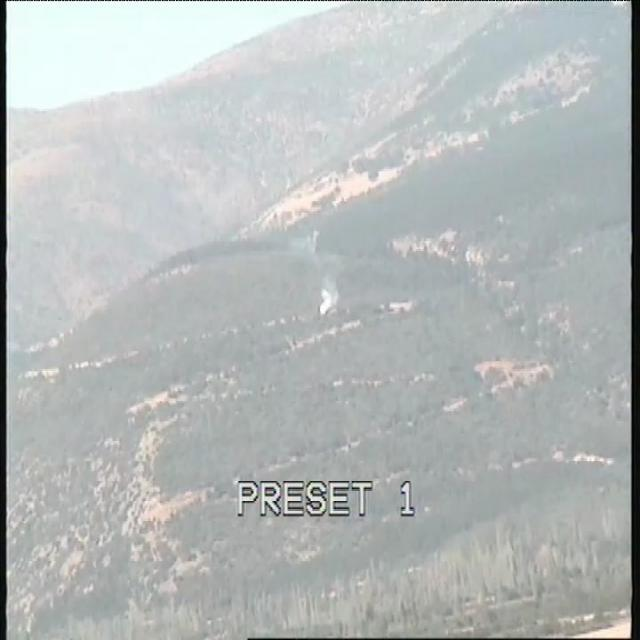smoke: (309, 273, 342, 316)
